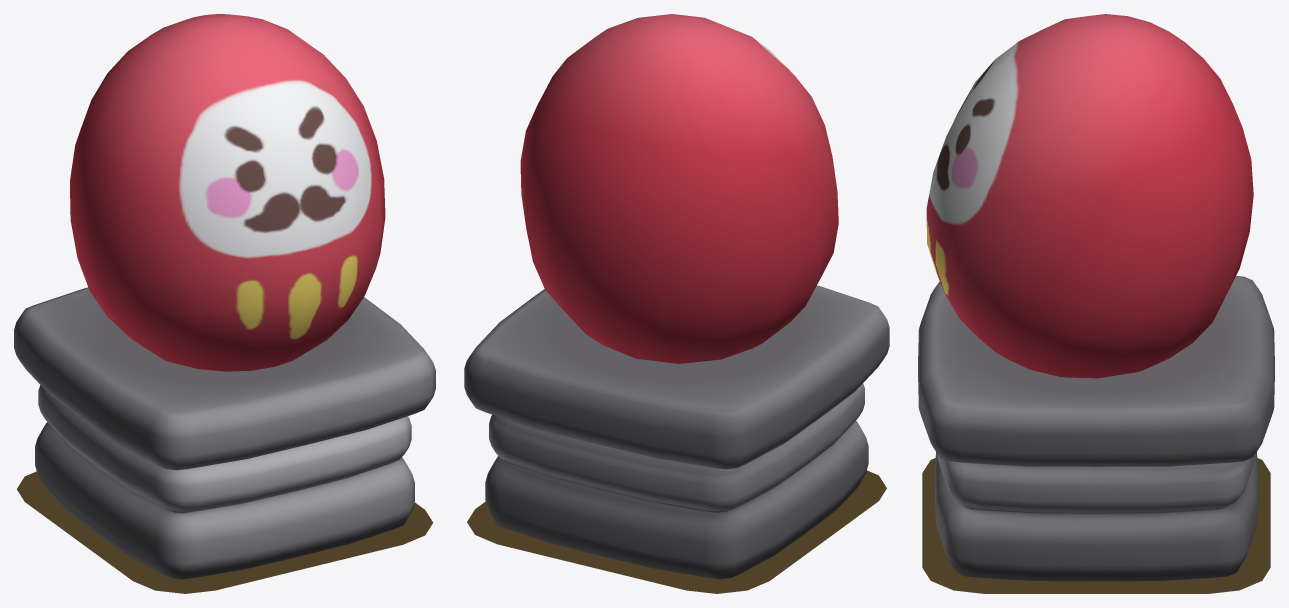
Rendered from Daruma01.fbx.
3 views of the same model, side by side, from view 1: azimuth 30°, elevation 25°; view 2: azimuth 150°, elevation 25°; view 3: azimuth 270°, elevation 25° (orthographic). The views are drawn at different scales.
Visible parts, largest first — view 1: polySurface1, polySurface2, polySurface3; view 2: polySurface1, polySurface2, polySurface3; view 3: polySurface1, polySurface2, polySurface3.
Boxes of the visible parts, left/top/right/bottom form: polySurface1: left=70, top=14, right=385, bottom=371; polySurface2: left=14, top=287, right=435, bottom=579; polySurface3: left=17, top=471, right=433, bottom=593; polySurface1: left=520, top=14, right=838, bottom=363; polySurface2: left=464, top=285, right=889, bottom=579; polySurface3: left=467, top=470, right=886, bottom=593; polySurface1: left=926, top=14, right=1253, bottom=378; polySurface2: left=918, top=276, right=1274, bottom=581; polySurface3: left=922, top=458, right=1270, bottom=593.
Size of the model in its own units: 189 by 289 by 189.
